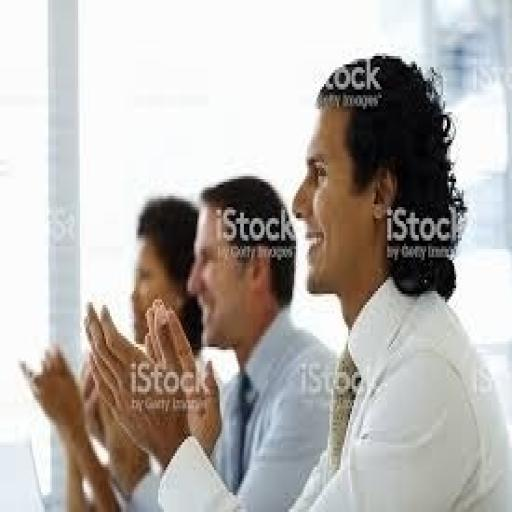clapping: (78, 50, 510, 510)
